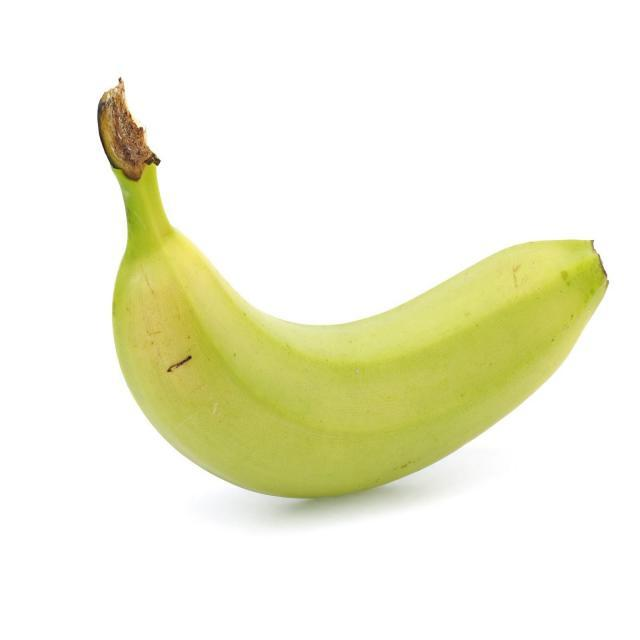Banana: (96, 80, 615, 500)
